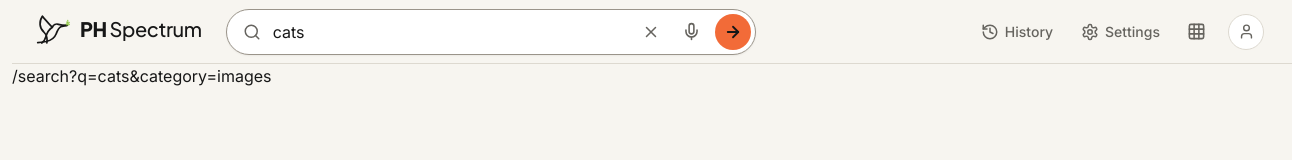
Test: the header search box › on the Images tab, a new search stays on the Images tab
Replace the text in the field named "Search the web" with "dogs". click: (453, 32)
box: [273,10,633,54]
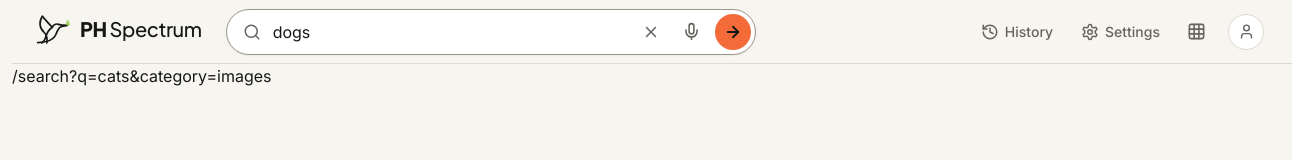
Submit the form, box [226,8,756,54]
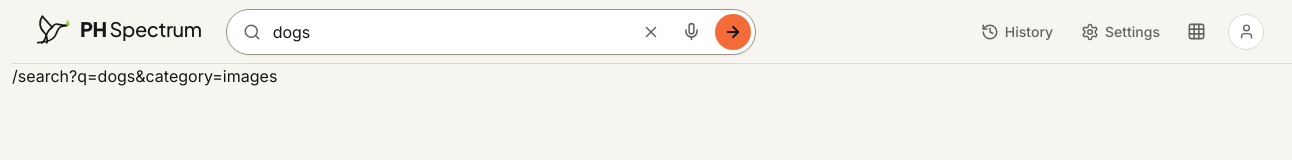
Check: the text with test id "where" reads "/search?q=dogs&category=images", box [12,66,277,86]
